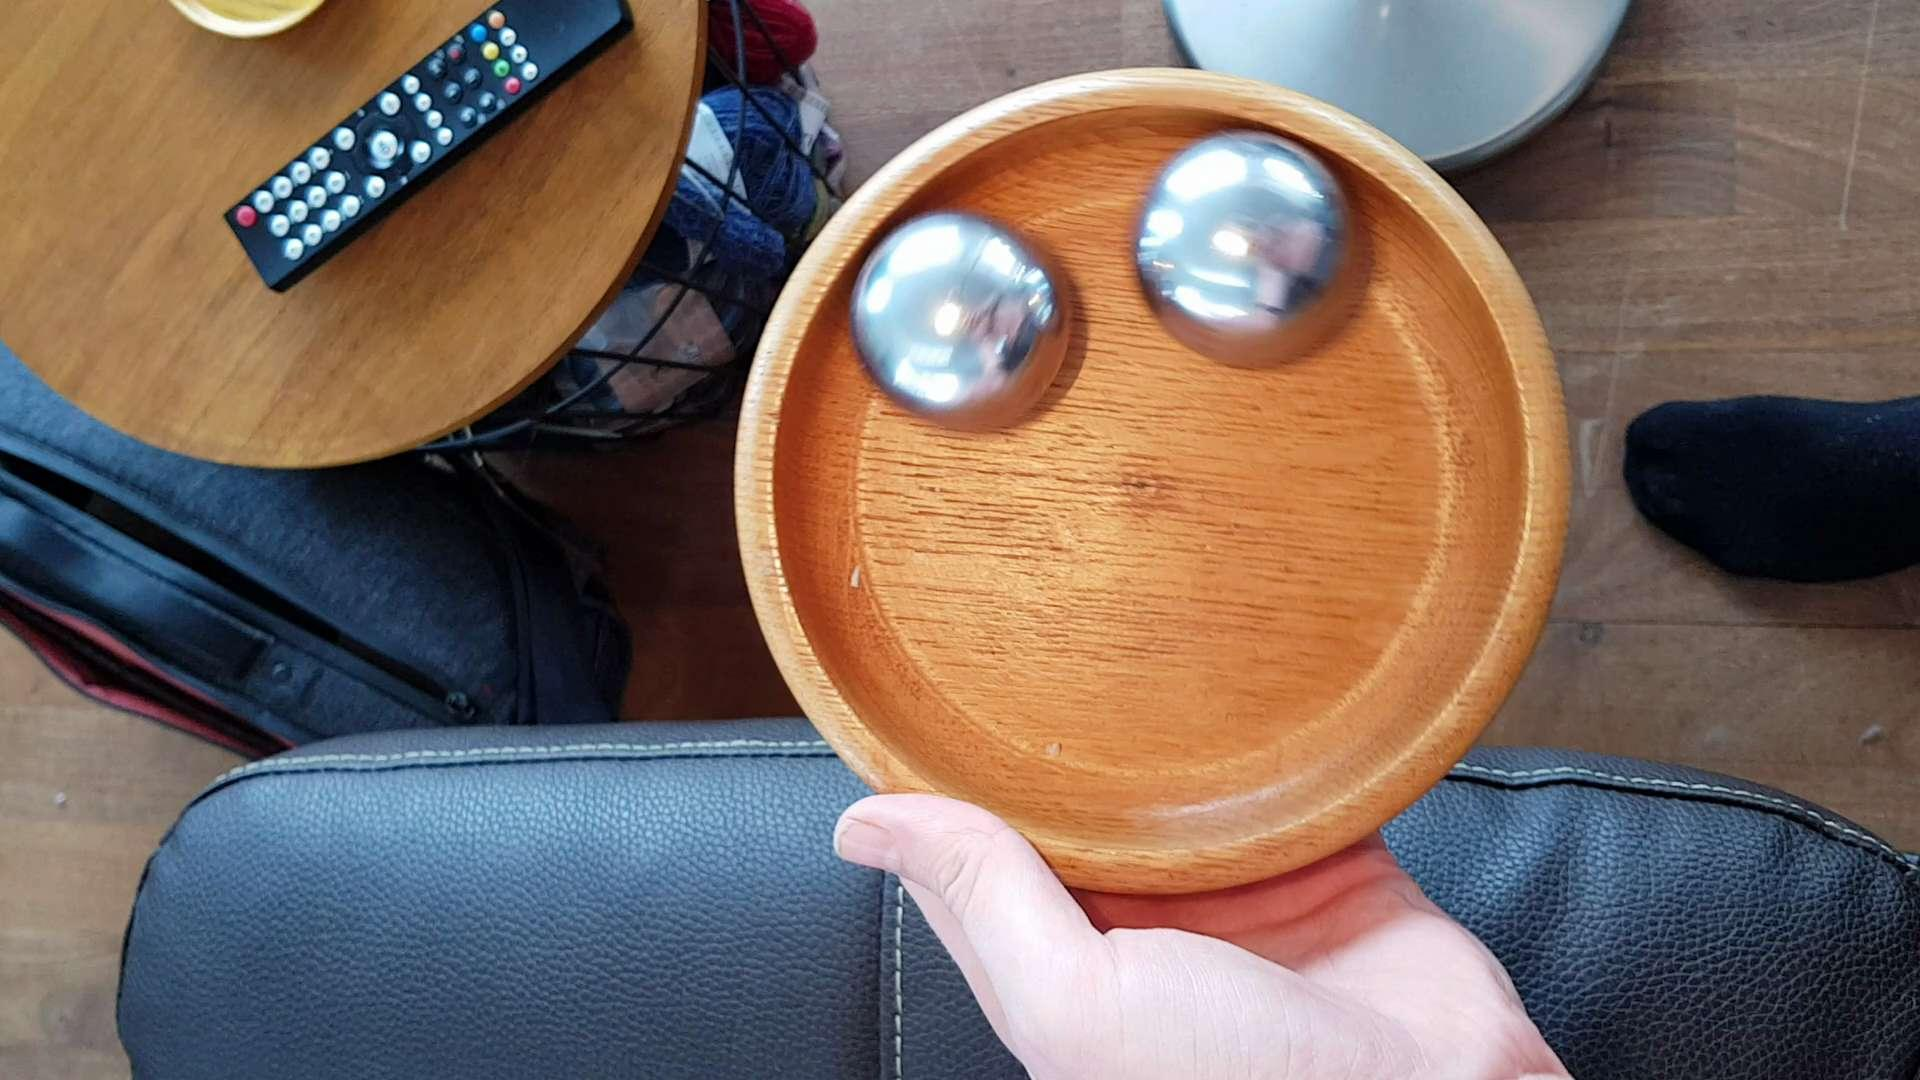sphere: (845, 190, 1101, 434), (1129, 120, 1367, 376)
